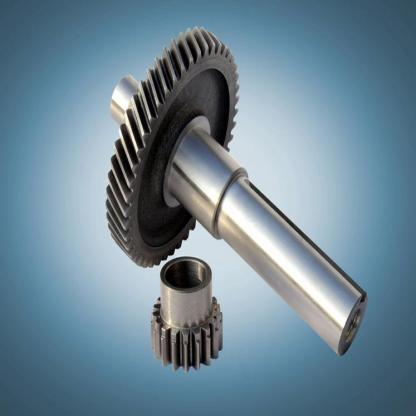FOD: (103, 23, 240, 270), (148, 254, 226, 372)
